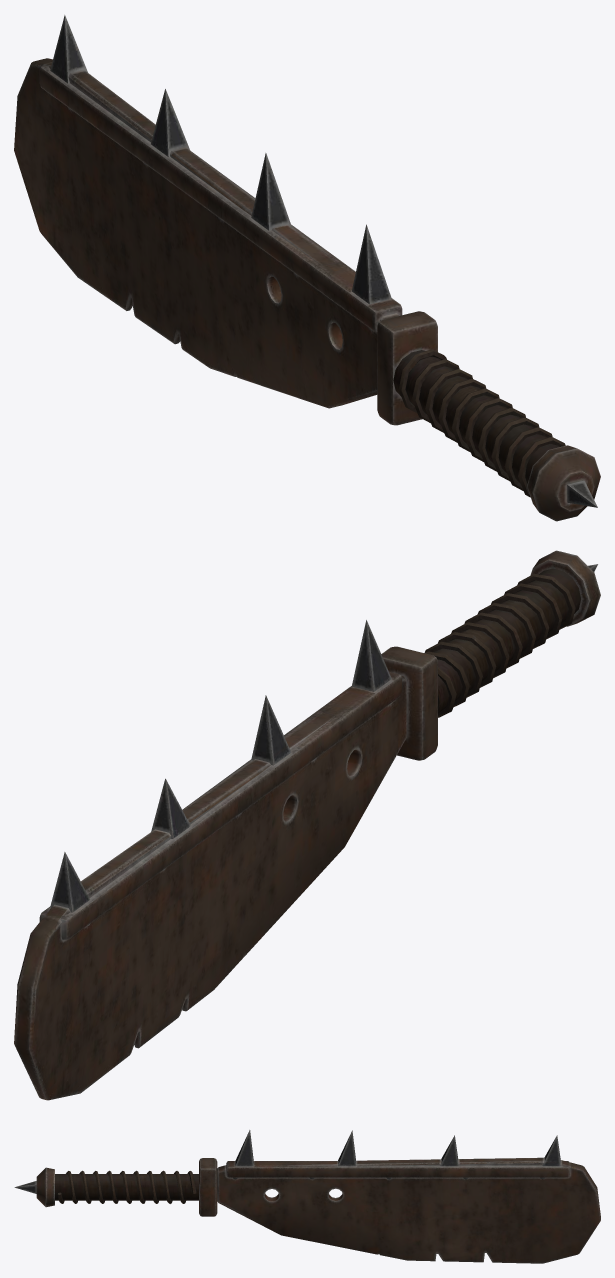
File: zhelvar_cleaver.glb
3 views of the same model, one above another, from view 1: azimuth 30°, elevation 25°; view 2: azimuth 150°, elevation 25°; view 3: azimuth 270°, elevation 25° (orthographic). The views are drawn at different scales.
Parts seen in each view (by area): view 1: zhelvar_cleaver; view 2: zhelvar_cleaver; view 3: zhelvar_cleaver.
Part boxes in pixels (x1=…): zhelvar_cleaver: x1=14, y1=15, x2=600, y2=521; zhelvar_cleaver: x1=14, y1=550, x2=600, y2=1100; zhelvar_cleaver: x1=14, y1=1130, x2=600, y2=1263.
Size of the model in its own units: 0.044 by 0.1625 by 0.644.
1 material, 1 textured.
